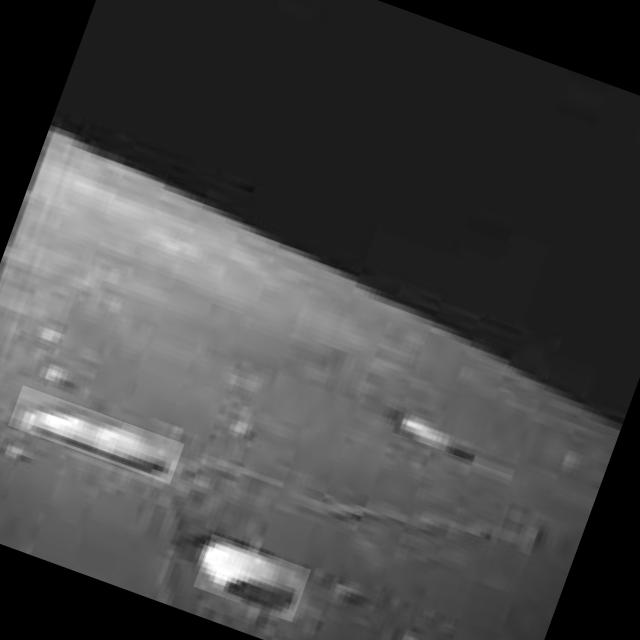crater: (8, 386, 184, 484), (193, 534, 311, 622)
